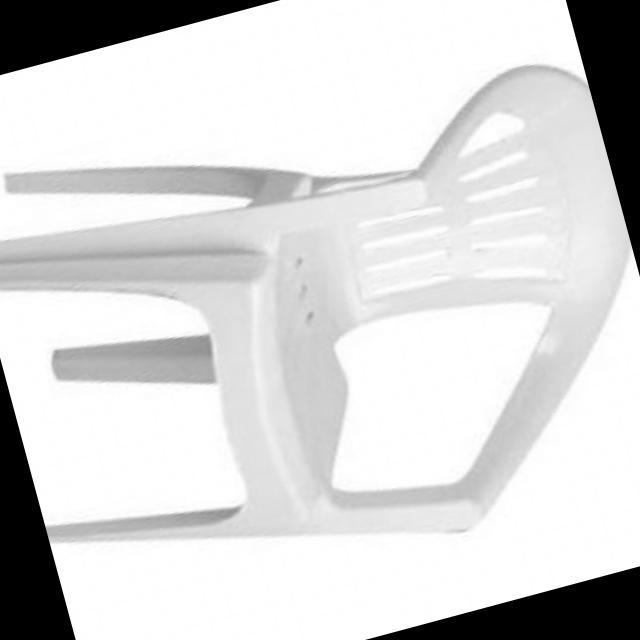chair: (0, 17, 640, 637)
